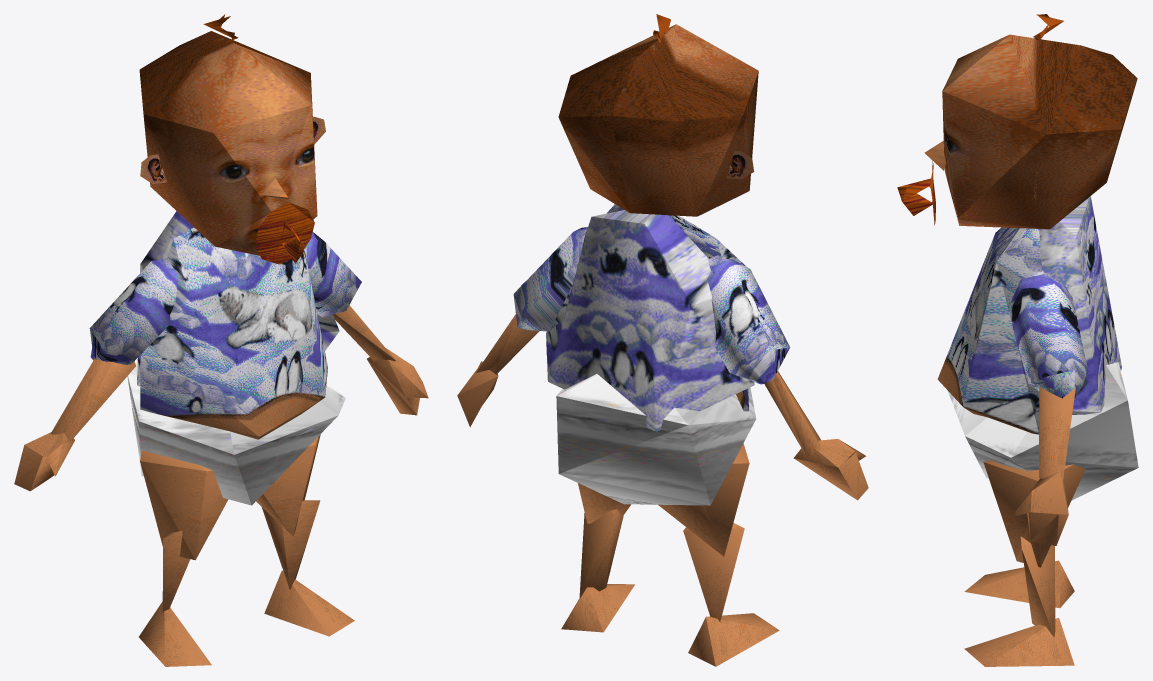
File: gabriel.obj
3 views of the same model, side by side, from view 1: azimuth 30°, elevation 25°; view 2: azimuth 150°, elevation 25°; view 3: azimuth 270°, elevation 25° (orthographic).
Visible parts, largest first — view 1: head, belly, skin, diaper, sleeves, pacifier, back; view 2: head, back, skin, diaper, sleeves, belly; view 3: head, skin, belly, diaper, back, sleeves, pacifier.
Boxes of the visible parts, bbox=[...] form: head: bbox=[139, 31, 317, 255]; belly: bbox=[140, 227, 327, 439]; skin: bbox=[14, 178, 428, 666]; diaper: bbox=[127, 362, 345, 505]; sleeves: bbox=[89, 232, 361, 364]; pacifier: bbox=[203, 14, 314, 264]; back: bbox=[137, 211, 339, 390]; head: bbox=[558, 24, 758, 216]; back: bbox=[546, 210, 754, 431]; skin: bbox=[457, 313, 868, 666]; diaper: bbox=[556, 374, 756, 505]; sleeves: bbox=[513, 227, 790, 384]; belly: bbox=[606, 204, 748, 411]; head: bbox=[942, 34, 1137, 229]; skin: bbox=[924, 141, 1085, 666]; belly: bbox=[937, 227, 1041, 434]; diaper: bbox=[948, 362, 1138, 500]; back: bbox=[1034, 196, 1121, 414]; sleeves: bbox=[1008, 269, 1088, 399]; pacifier: bbox=[897, 14, 1063, 225].
Size of the model in its own units: 2.21 by 3.29 by 1.18.
Materials: 9 (9 with a texture image).
